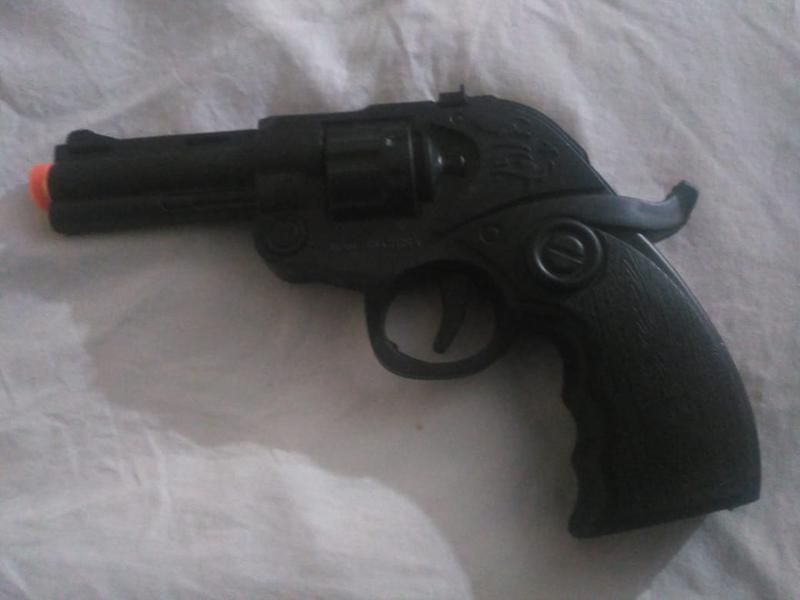gun: (21, 72, 789, 537)
